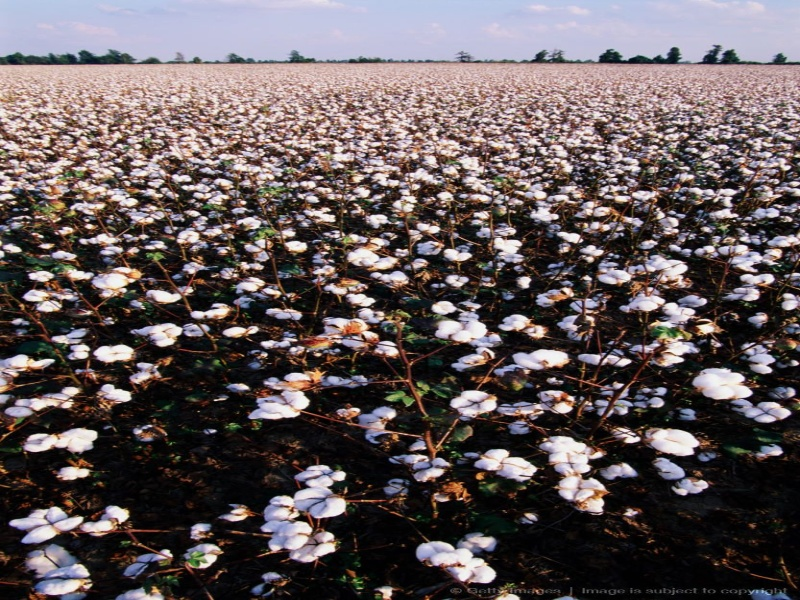cotton: (1, 113, 796, 584)
